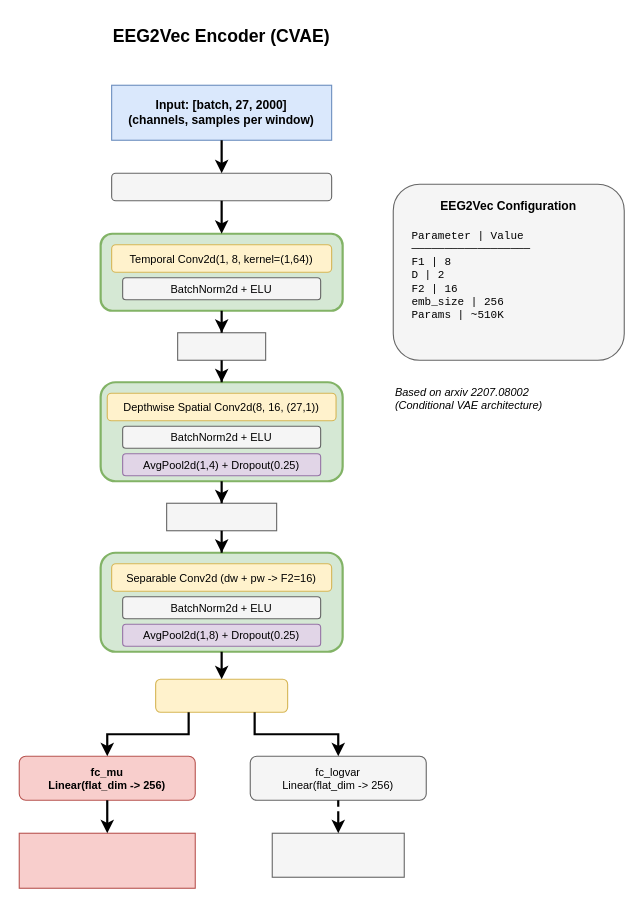
The diagram is 644 pixels wide and 908 high, and some of its shapes have lost their labels. Each missing label, with the centre of its shape:
[16, 1, T/4]: (221,516)
[8, 27, T]: (221,346)
Flatten: (221,695)
logvar (for optional KL loss): (337,854)
Output: mu [256-dim] (per window embedding): (106,860)
Unsqueeze -> [batch, 1, 27, 2000]: (221,186)
